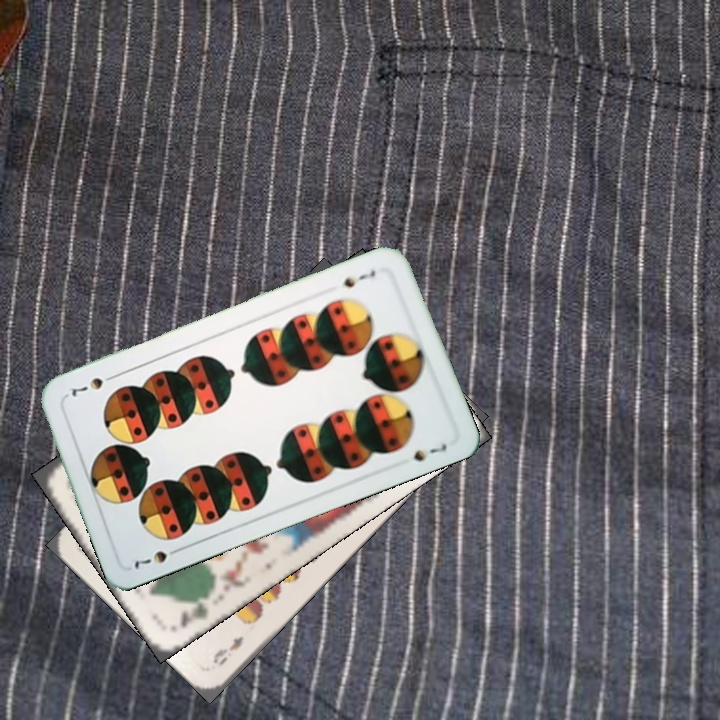E9: (209, 632, 247, 668)
GK: (175, 599, 211, 631)
S7: (130, 543, 185, 572), (339, 265, 378, 291)
